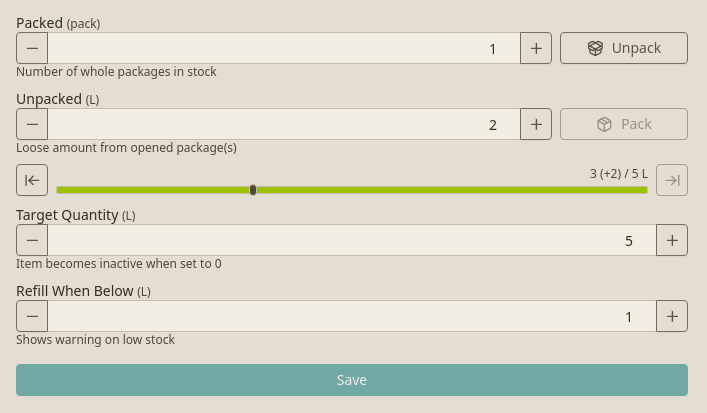
Test case: ItemForm — stock tab steppers step by the Constraint-4 increment › user steps Target by consumeAmount in measurement mode
Click the button named "Increase target quantity". click: (672, 240)
box: [656, 224, 688, 256]
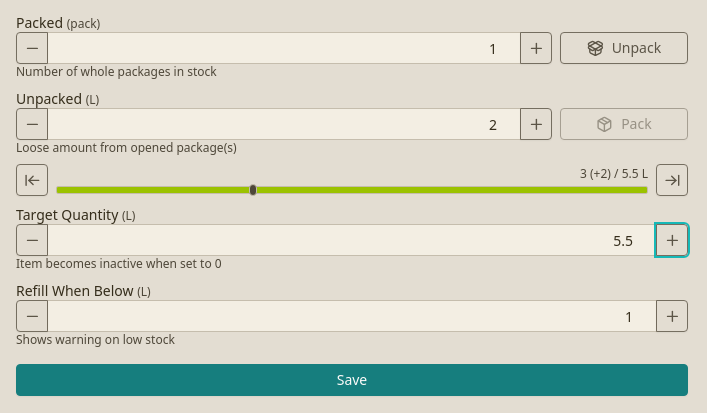
Check: the number field labelled "Target Quantity (L)" holds "5.5", box [47, 224, 657, 256]
